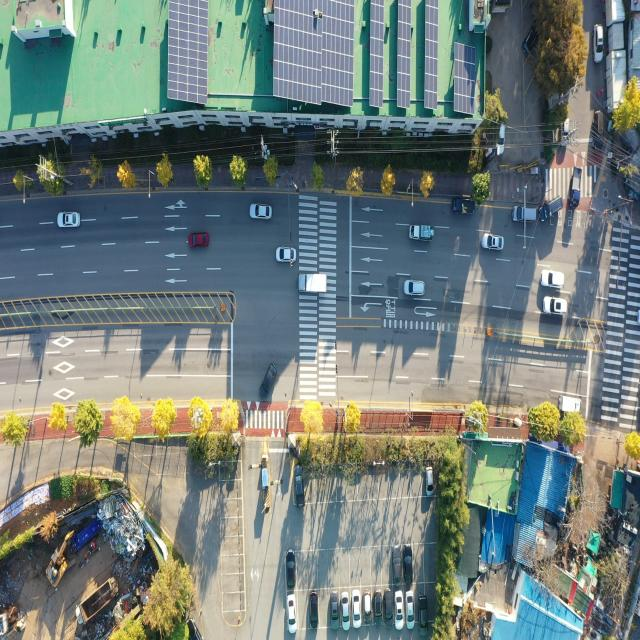car: (540, 194, 563, 224), (523, 24, 539, 58), (512, 204, 538, 224), (263, 362, 279, 392), (294, 464, 305, 505), (402, 545, 413, 585), (542, 270, 565, 289), (383, 590, 394, 628), (59, 211, 81, 229), (250, 203, 272, 221), (482, 234, 504, 252), (276, 246, 298, 264), (546, 296, 568, 314), (330, 591, 340, 630), (392, 546, 402, 585), (286, 551, 296, 589), (352, 590, 362, 628), (594, 110, 604, 148), (418, 592, 427, 633), (405, 590, 414, 630), (287, 594, 296, 632), (189, 232, 209, 249), (405, 280, 426, 296), (362, 591, 372, 624), (395, 590, 403, 630), (496, 124, 506, 154), (310, 592, 318, 629), (594, 25, 602, 61), (374, 591, 382, 624), (342, 592, 350, 622), (426, 466, 434, 494), (562, 119, 570, 147)
medium_truck: (298, 272, 328, 295)
small_truck: (569, 165, 582, 208), (452, 196, 476, 218), (410, 222, 433, 244), (560, 394, 582, 415)
